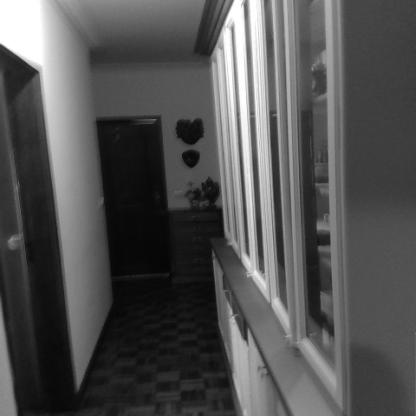closed: (83, 112, 169, 284)
